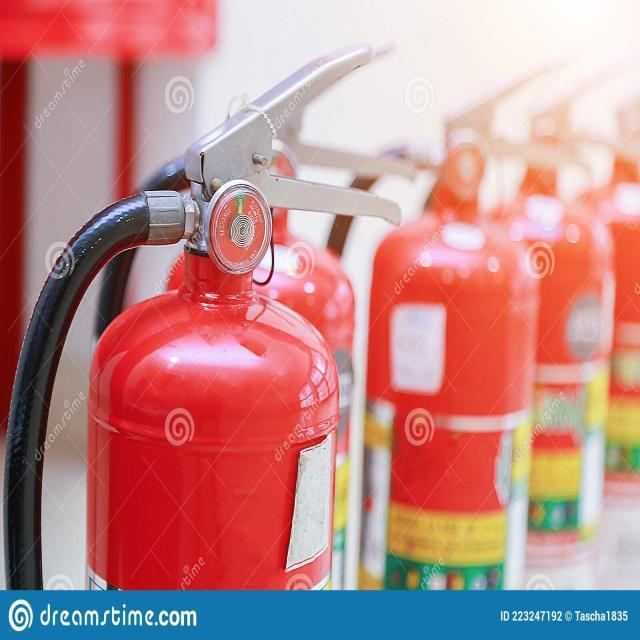fire_extinguisher: (0, 34, 407, 591), (309, 58, 596, 592)
